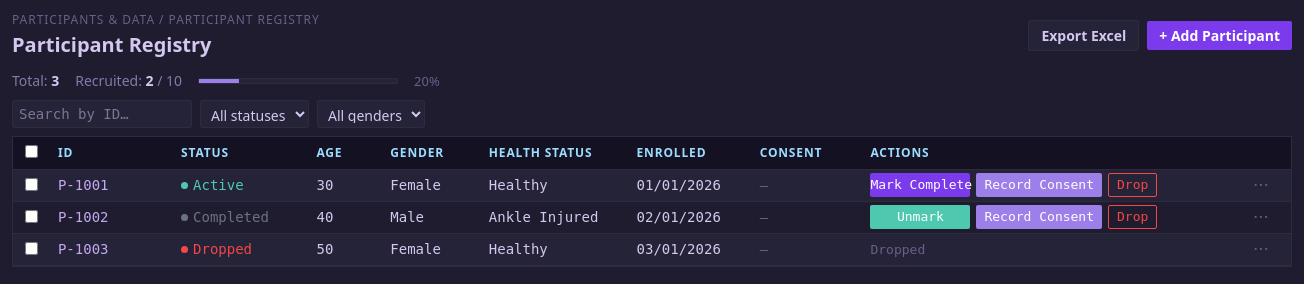
Scenario: ParticipantsDisplay › status filter narrows to the selected status
Select "Dropped" in the 1st dropdown at [254, 114], box [200,100,309,128]
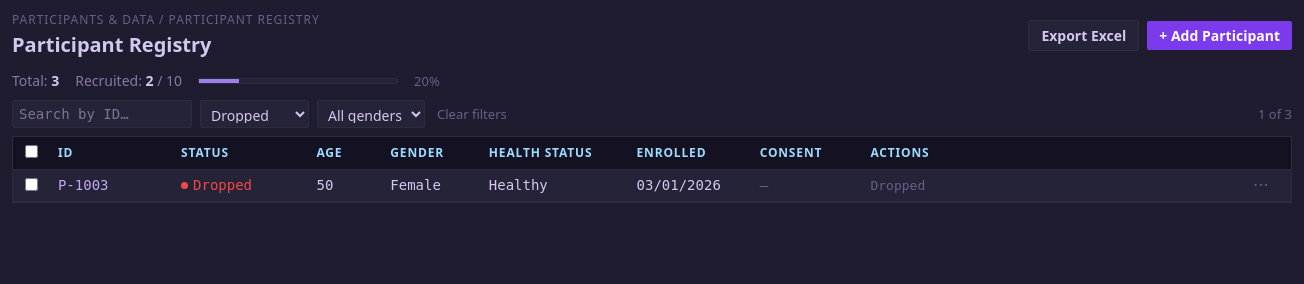
Expected: the text "P-1003" is shown, [58,177,108,193]
Now the text "P-1001" is gone
